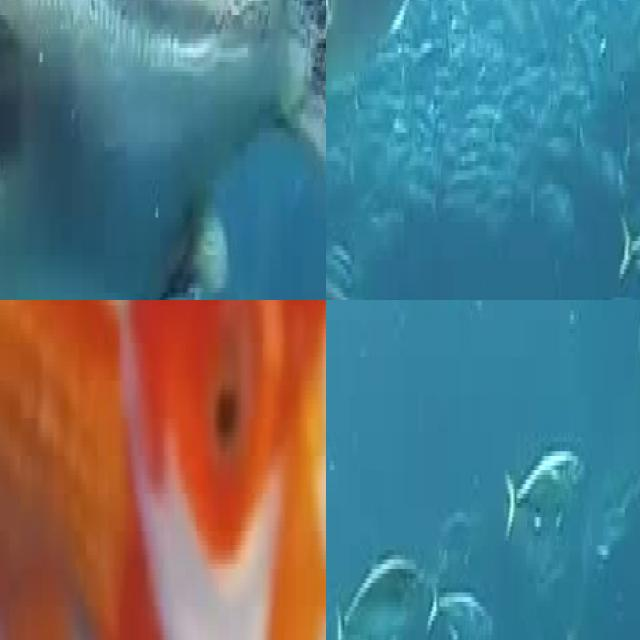fish: (0, 0, 326, 300), (103, 300, 326, 640)
